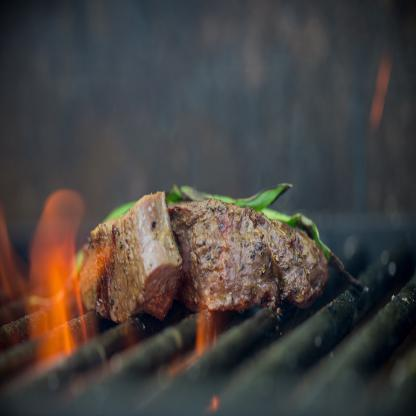Carne: (174, 201, 327, 322)
